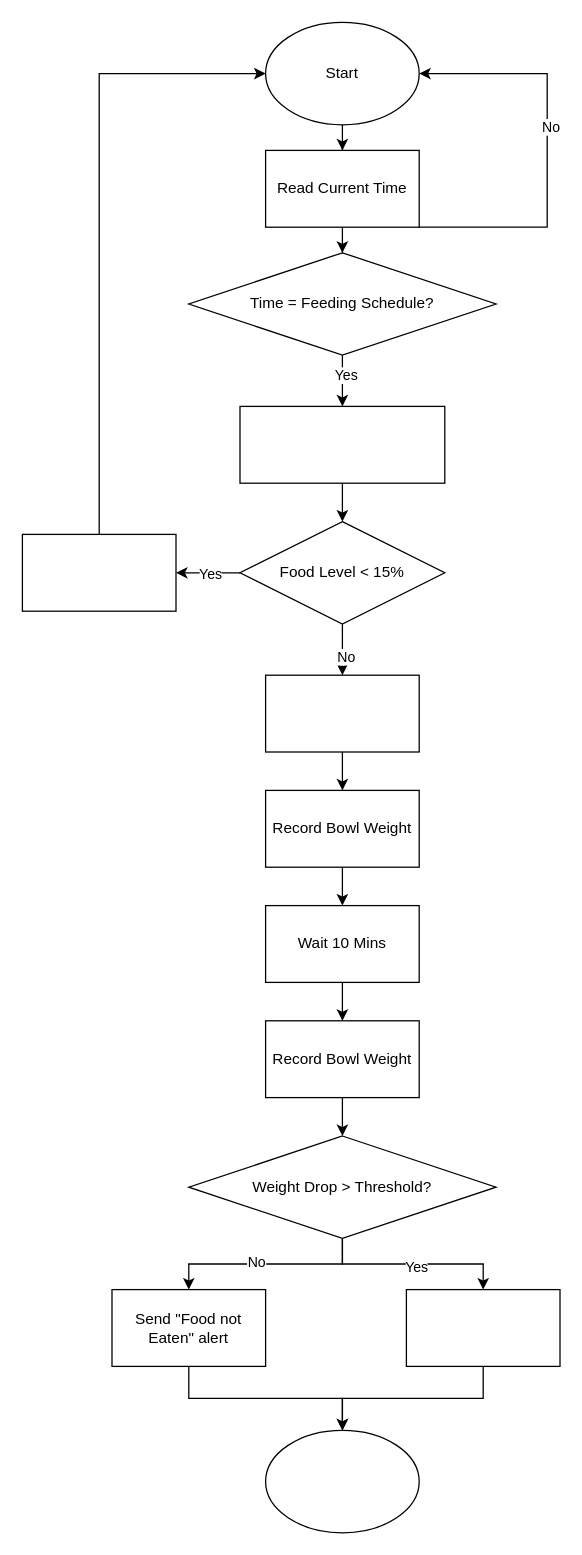
Image size: 582x1555. Some labels were removed from this diagram. The shapes that lost their labels are listed below. From the top down, each one's box as (x1, y1, x2, y2) in pixels, then its label:
(239, 405, 445, 483): Check Food Bm Level
(21, 533, 176, 611): Send "Low Food Level" alert
(264, 674, 419, 752): Dispense Food
(405, 1288, 560, 1366): Log "Feed Success"
(264, 1429, 419, 1533): End
